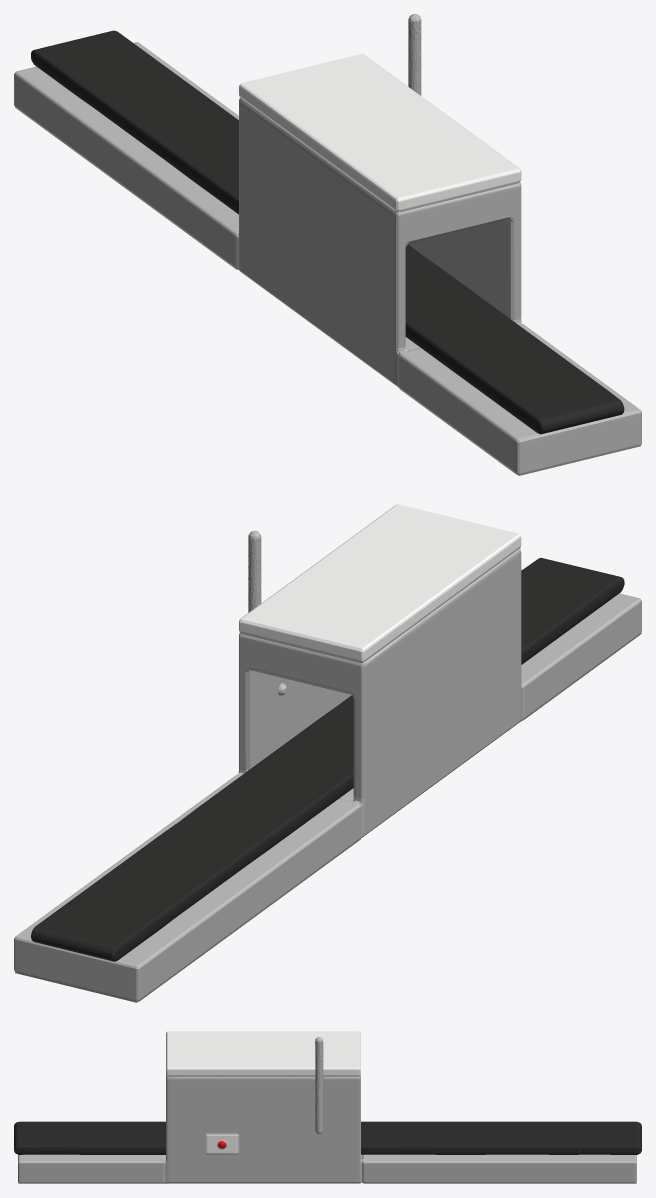
Rendered from fliessband.glb.
3 renders of one model, top to bottom at view 1: azimuth 30°, elevation 25°; view 2: azimuth 150°, elevation 25°; view 3: azimuth 270°, elevation 25°, orthographic. The views are drawn at different scales.
Parts seen in each view (by area): view 1: 272926_23_05_25_12_33_32_0, 272926_23_05_25_12_33_32_1, 272926_23_05_25_12_33_32_3; view 2: 272926_23_05_25_12_33_32_0, 272926_23_05_25_12_33_32_1, 272926_23_05_25_12_33_32_3; view 3: 272926_23_05_25_12_33_32_0, 272926_23_05_25_12_33_32_1, 272926_23_05_25_12_33_32_3.
Part boxes in pixels (x1,y1,x2,y2): 272926_23_05_25_12_33_32_0: [14, 42, 641, 475]; 272926_23_05_25_12_33_32_1: [31, 30, 624, 434]; 272926_23_05_25_12_33_32_3: [408, 14, 421, 95]; 272926_23_05_25_12_33_32_0: [14, 504, 641, 1002]; 272926_23_05_25_12_33_32_1: [31, 558, 624, 961]; 272926_23_05_25_12_33_32_3: [248, 530, 287, 695]; 272926_23_05_25_12_33_32_0: [18, 1031, 636, 1183]; 272926_23_05_25_12_33_32_1: [14, 1121, 641, 1154]; 272926_23_05_25_12_33_32_3: [315, 1037, 323, 1134].
Size of the model in its own units: 15.72 by 25.07 by 93.86.
3 materials, 3 textured.
